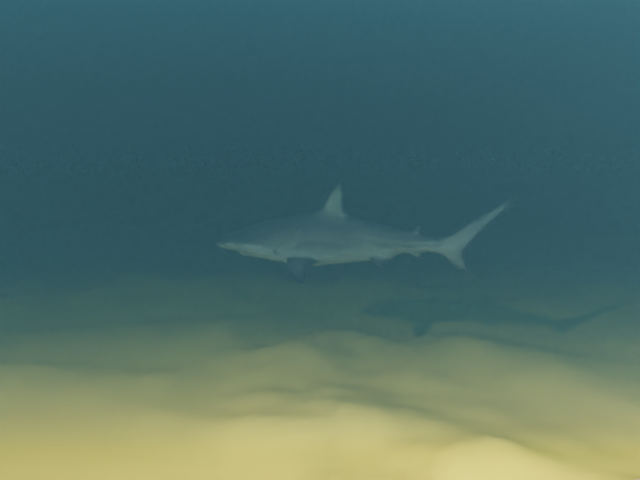Carribean Shark.001: (216, 183, 517, 284)
